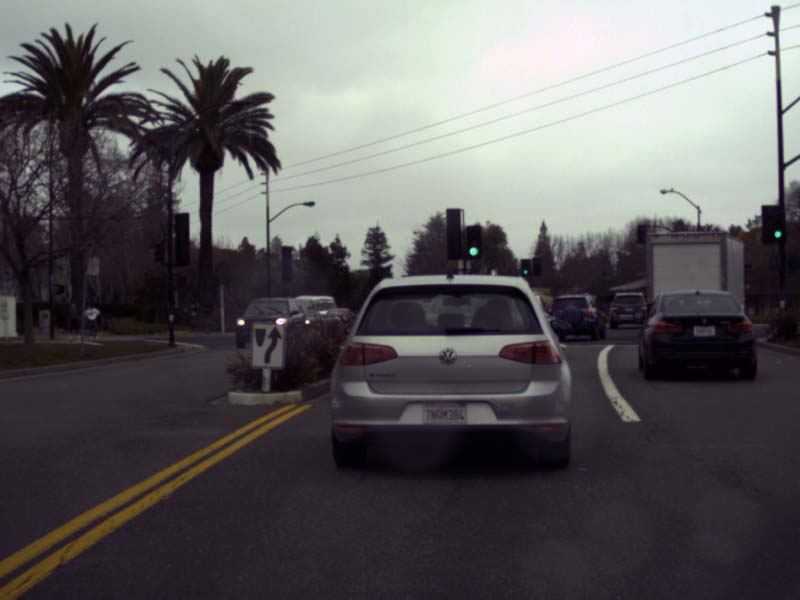Green: (465, 226, 481, 257), (773, 212, 784, 240), (520, 259, 531, 276)
Red: (637, 224, 646, 242), (532, 258, 540, 273)
